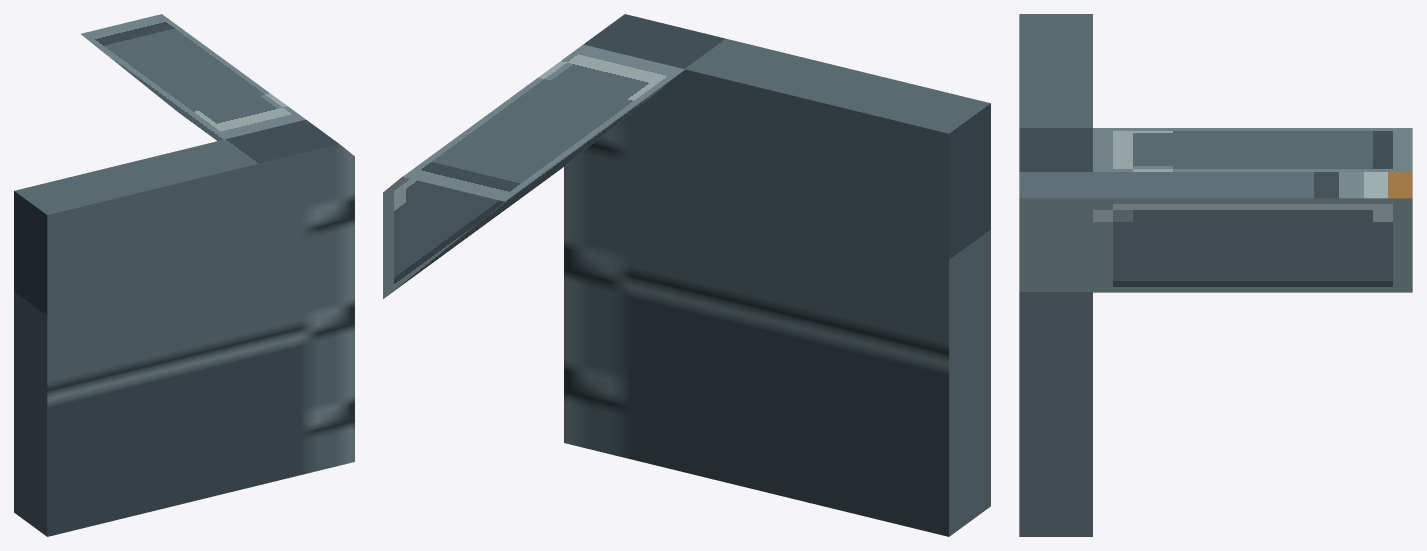
File: casing_d7_rear_x2_y2.obj
The picture shows the model from 3 angles, left to right: view 1: azimuth 30°, elevation 25°; view 2: azimuth 150°, elevation 25°; view 3: azimuth 270°, elevation 25°; orthographic projection. The views are drawn at different scales.
Visible parts, largest first — view 1: d7_rear_x2_y2; view 2: d7_rear_x2_y2; view 3: d7_rear_x2_y2.
Part boxes in pixels (x1,y1,x2,y2): d7_rear_x2_y2: [14, 14, 354, 536]; d7_rear_x2_y2: [383, 14, 990, 536]; d7_rear_x2_y2: [1019, 14, 1412, 536].
Bounding box in the file's own units: 1 × 1 × 1.
